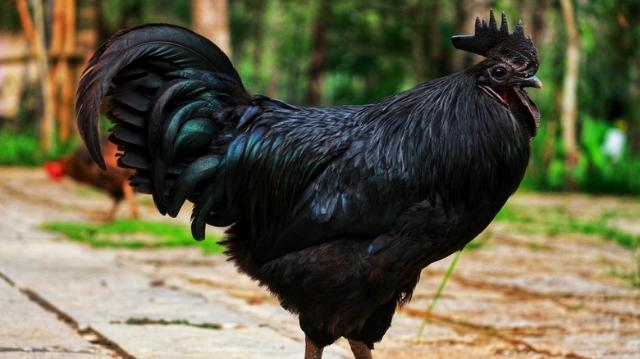Chicken: (75, 9, 544, 359)
